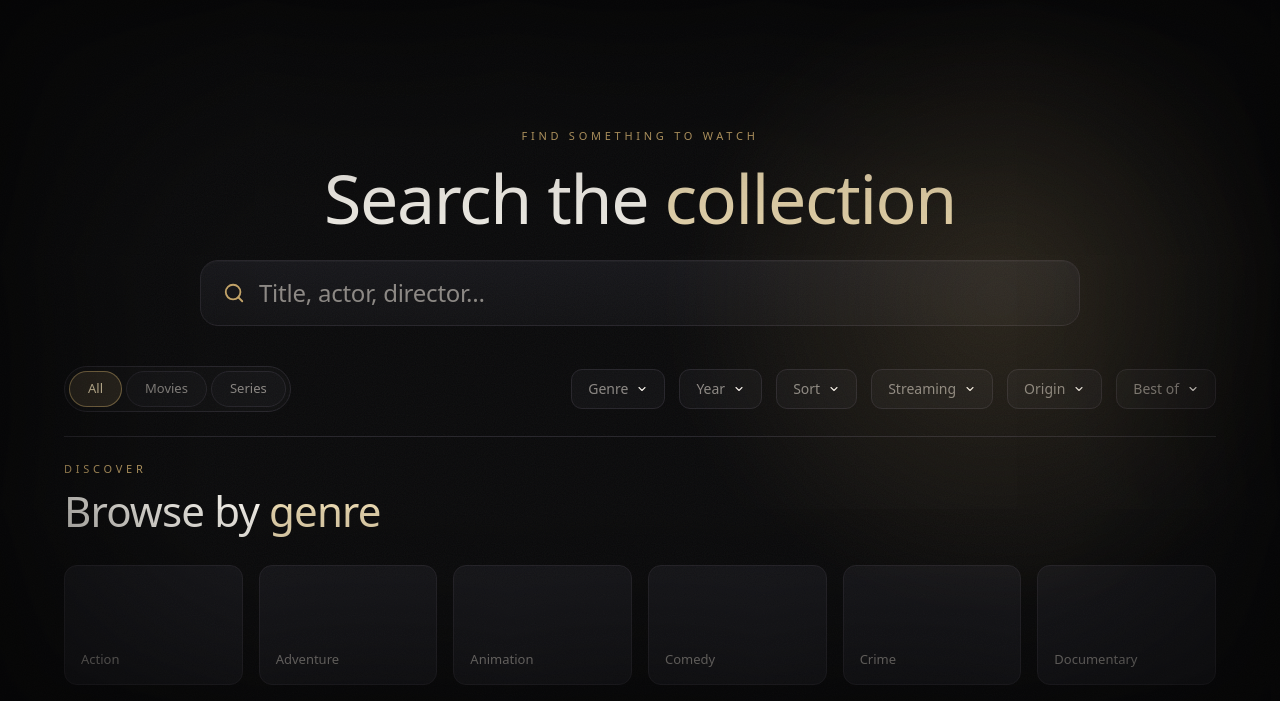
Scenario: SearchView › empty state (no query, no filters) › clicking a genre tile in GenreBrowse activates a filter and hides GenreBrowse
This screenshot has width=1280, height=701.
Click the button "Action". click: (153, 625)
box: 64,566 -> 243,685
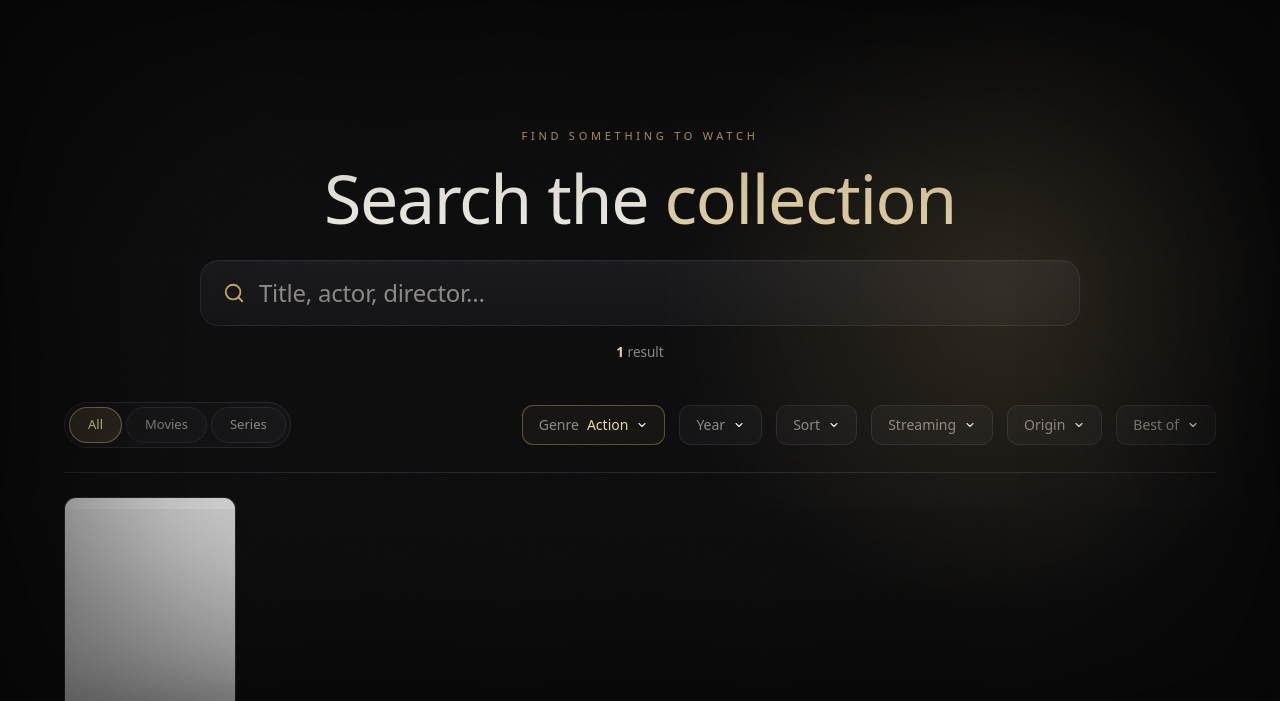
Now the heading "Browse by genre" is gone
